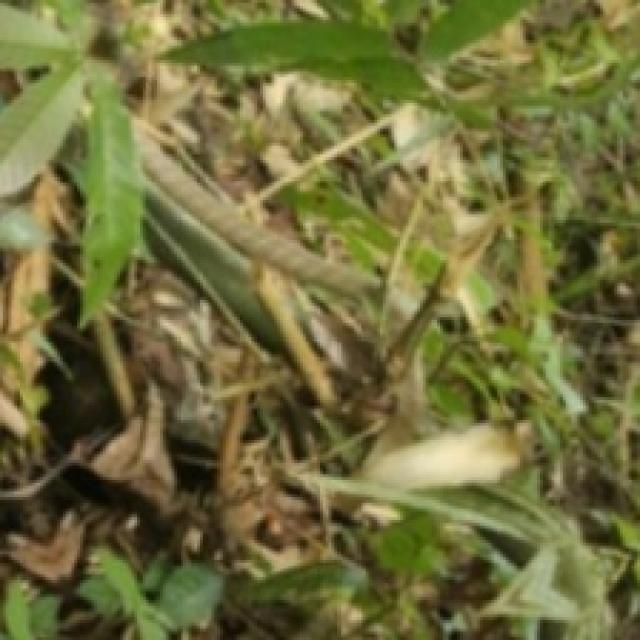king cobra: (136, 119, 524, 489)
